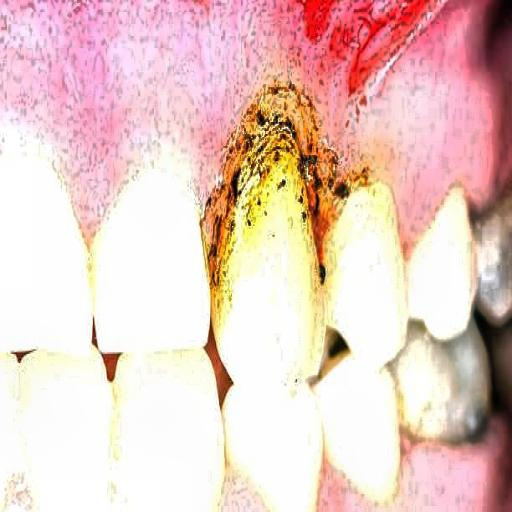Calculus: (191, 42, 349, 312)
